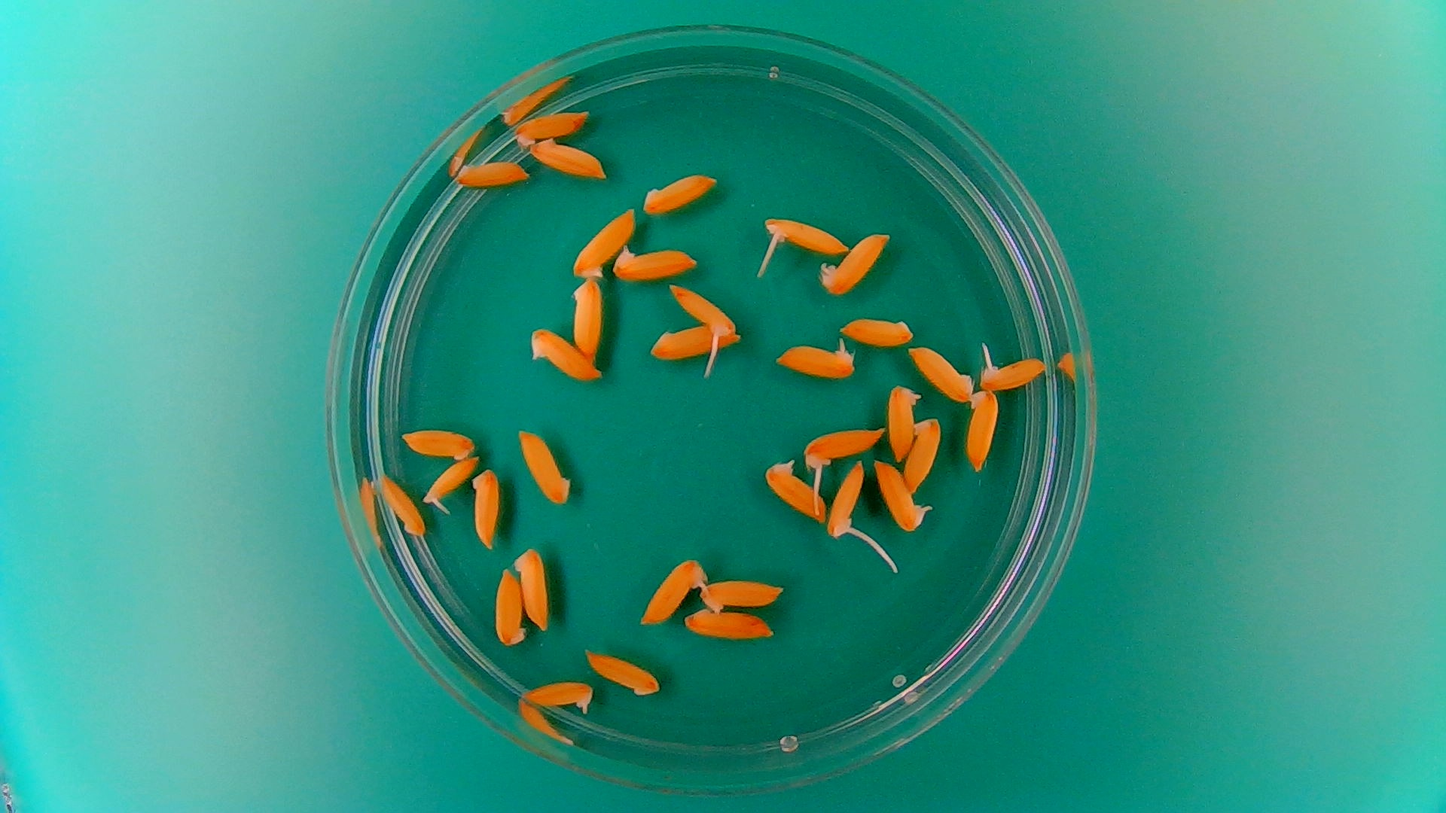no: (816, 228, 891, 297), (569, 204, 638, 278), (525, 323, 604, 385), (516, 425, 573, 506), (762, 456, 828, 525), (907, 343, 978, 403), (583, 646, 662, 699), (611, 240, 701, 282), (640, 170, 720, 217), (508, 104, 593, 148), (527, 137, 610, 182), (697, 574, 788, 614), (376, 470, 428, 538), (648, 321, 741, 359), (514, 543, 552, 632), (683, 607, 779, 642), (569, 275, 605, 364), (964, 387, 999, 472), (886, 380, 922, 461), (903, 414, 941, 490), (398, 424, 478, 460), (493, 566, 527, 649), (470, 464, 502, 550), (453, 155, 530, 190), (838, 313, 914, 347)
yes: (873, 455, 932, 536), (638, 556, 702, 628), (664, 280, 736, 340), (773, 336, 858, 381), (760, 215, 851, 257), (421, 452, 482, 513), (827, 458, 868, 543), (803, 426, 885, 467), (518, 677, 598, 715), (978, 356, 1045, 392)
